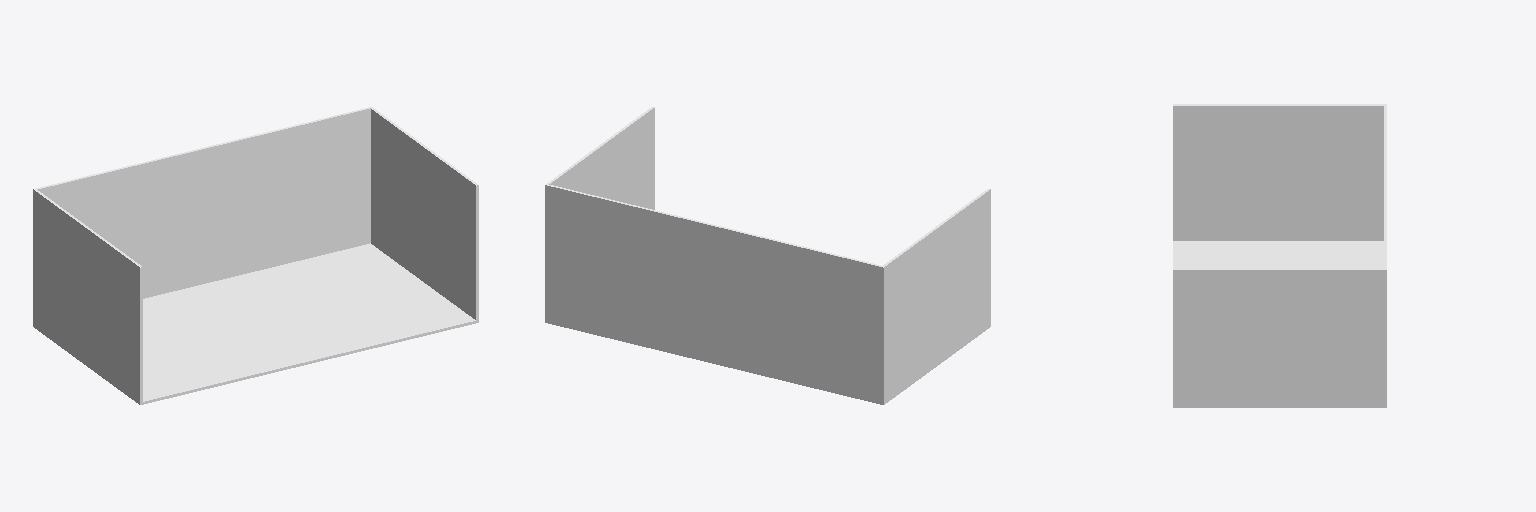
The model's file is piscina.obj.
3 renders of one model, left to right at view 1: azimuth 30°, elevation 25°; view 2: azimuth 150°, elevation 25°; view 3: azimuth 270°, elevation 25°, orthographic.
Visible parts, largest first — view 1: object 1; view 2: object 1; view 3: object 1.
Part boxes in pixels (bbox=[...]): object 1: bbox=[33, 107, 478, 404]; object 1: bbox=[545, 107, 990, 404]; object 1: bbox=[1173, 104, 1386, 407].
Bounding box in the file's own units: 12.6 × 4.9 × 6.9.